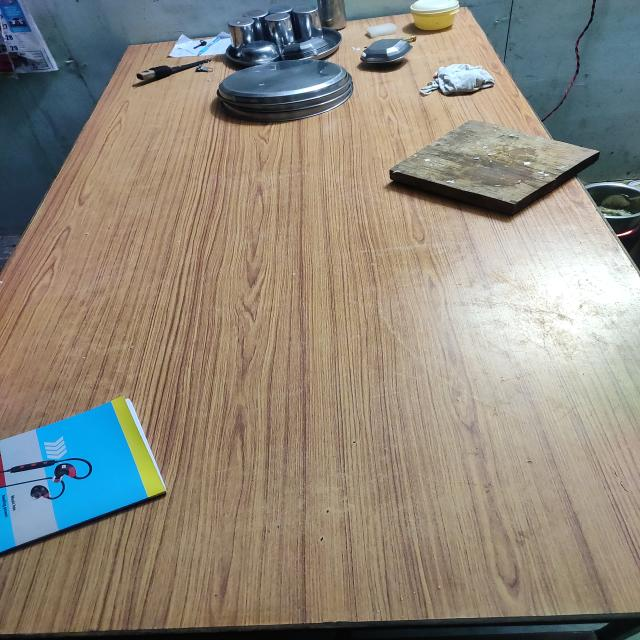book: (0, 402, 162, 556)
table: (13, 37, 640, 635)
